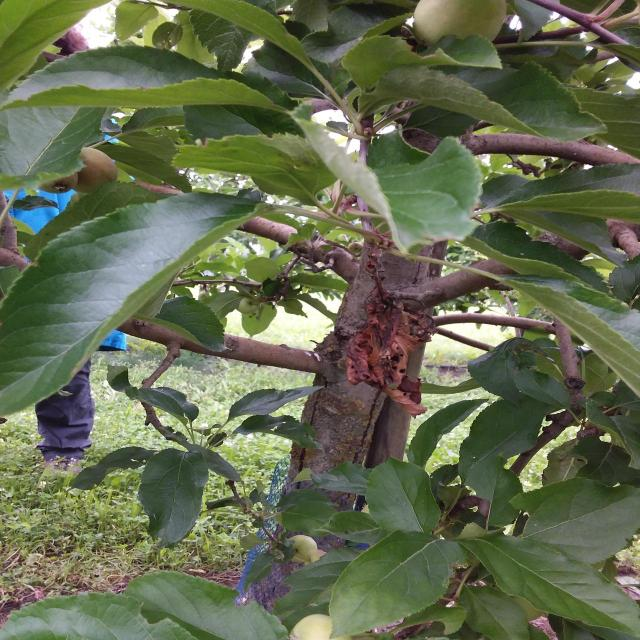-FireBlight-: (336, 240, 437, 418)
